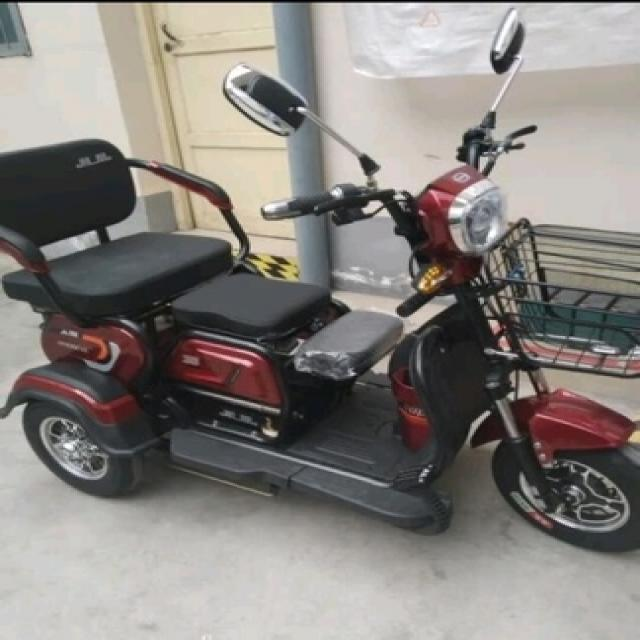tricycle: (2, 1, 638, 554)
